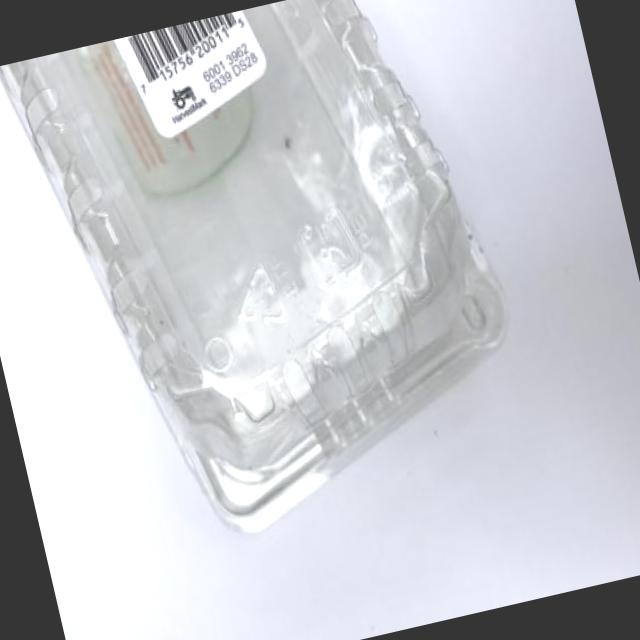Recycle: (0, 0, 564, 564)
